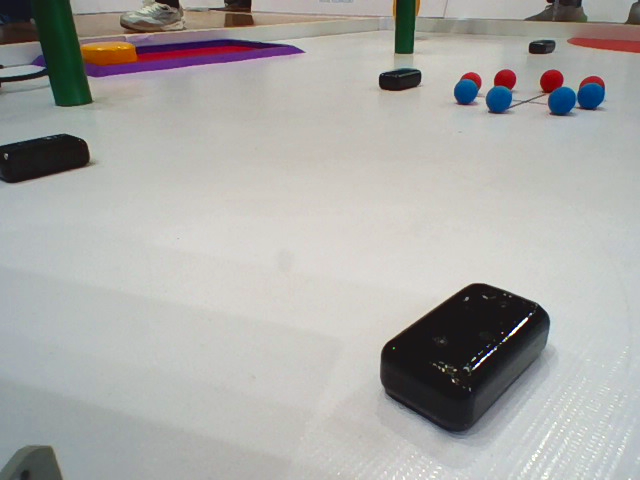black: (384, 281, 550, 432), (1, 127, 94, 184), (374, 64, 419, 92), (528, 38, 557, 54)
blue: (546, 85, 575, 115), (578, 83, 607, 112), (485, 86, 513, 115), (453, 79, 478, 103)
kuang: (28, 33, 312, 82)
red: (492, 68, 517, 93), (538, 68, 563, 91), (580, 75, 605, 96), (462, 71, 483, 87)
yellow: (77, 40, 135, 67)
